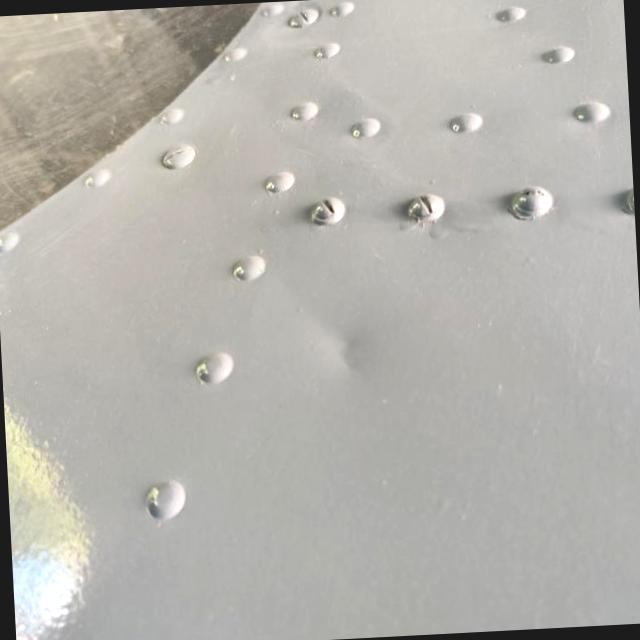dent: (306, 316, 381, 386)
